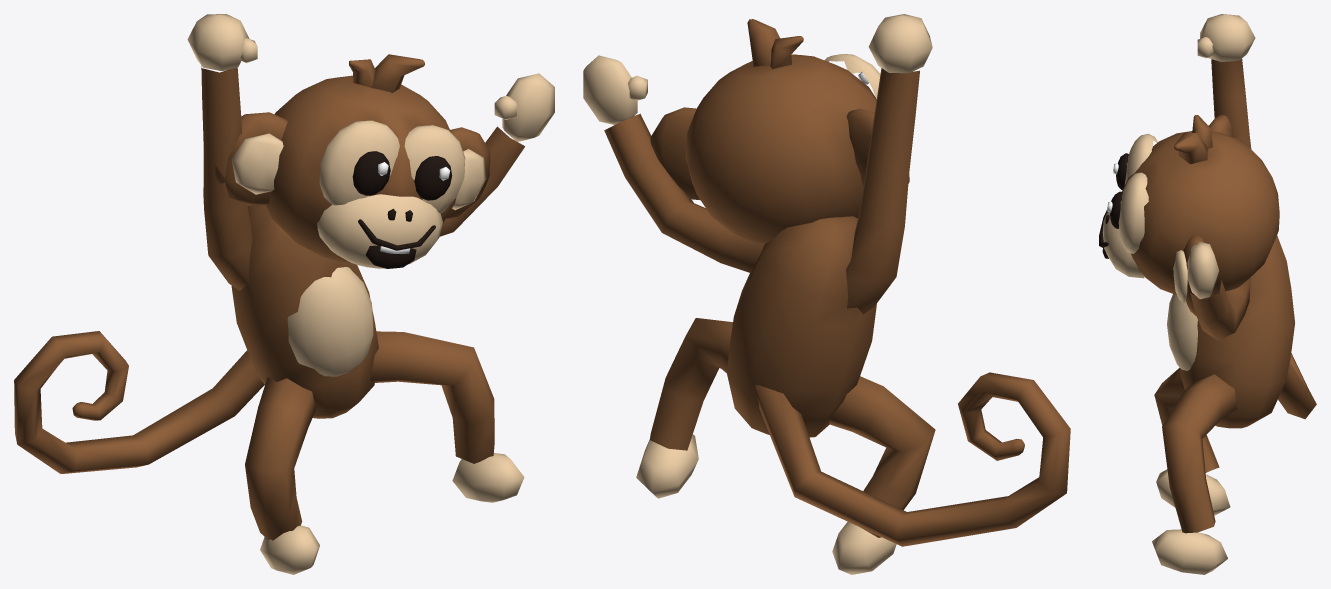
The model's file is monkey_hang.glb.
3 views of the same model, side by side, from view 1: azimuth 30°, elevation 25°; view 2: azimuth 150°, elevation 25°; view 3: azimuth 270°, elevation 25° (orthographic). The views are drawn at different scales.
Parts seen in each view (by area): view 1: MonkeyHang; view 2: MonkeyHang; view 3: MonkeyHang.
Part boxes in pixels (<box>): MonkeyHang: <box>14,14,554,574</box>; MonkeyHang: <box>583,14,1070,574</box>; MonkeyHang: <box>1099,14,1316,574</box>.
Size of the model in its own units: 1.46 by 1.55 by 0.6421.
